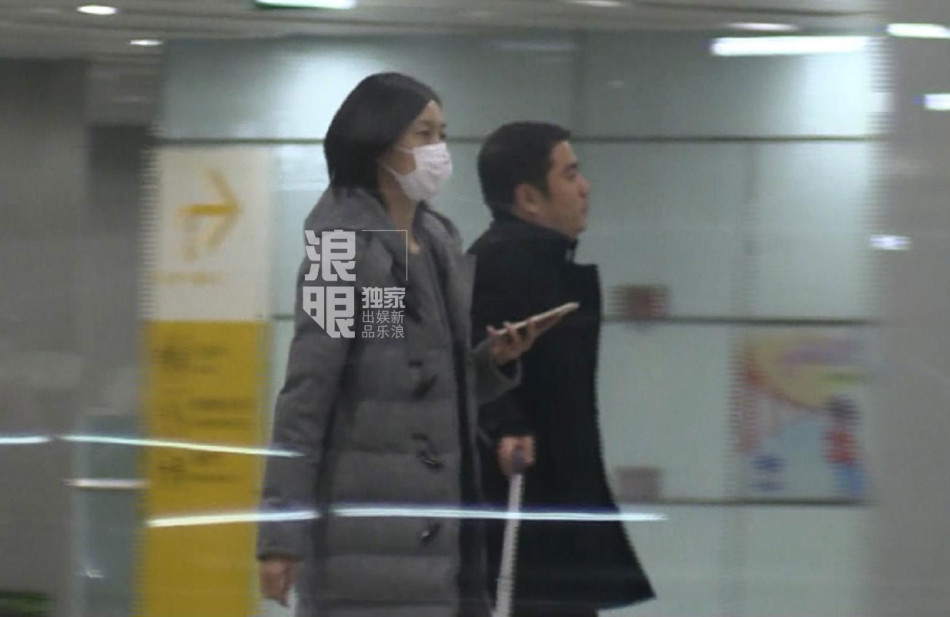face: (550, 144, 596, 232)
face_mask: (401, 107, 454, 204)
